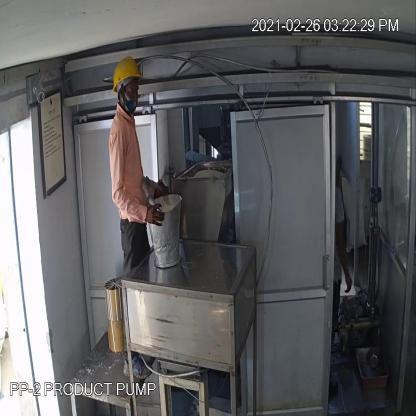helmet: (110, 51, 147, 104)
